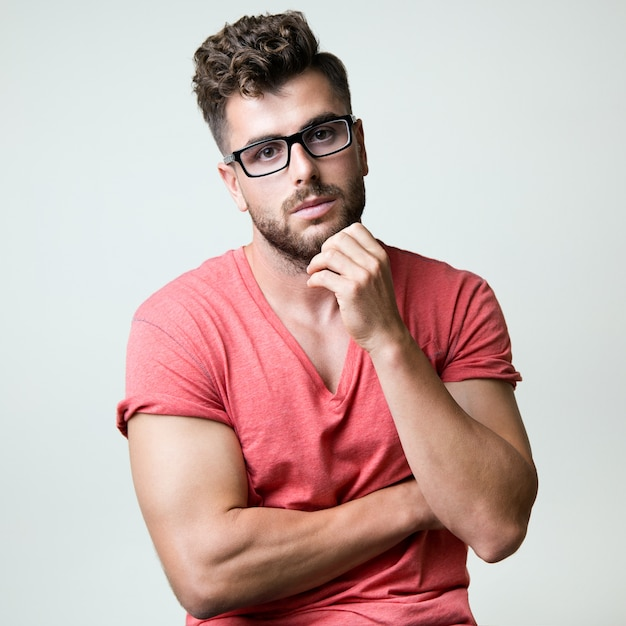young: (182, 12, 375, 282)
